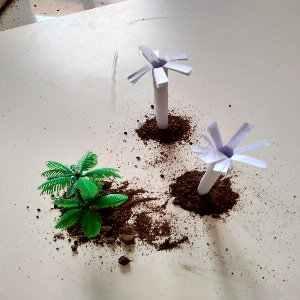plant: (34, 155, 130, 249)
weed: (121, 41, 195, 136), (191, 119, 259, 199)
